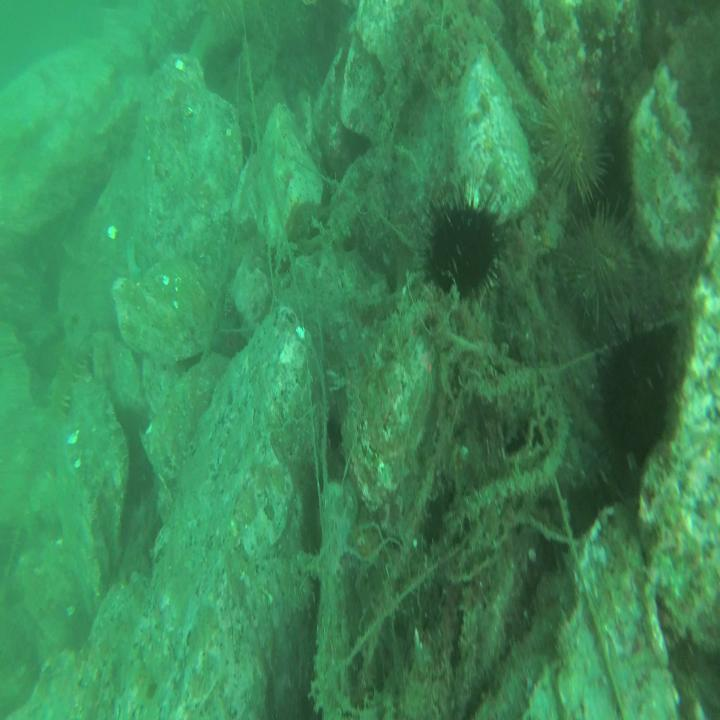echinus: (549, 193, 678, 343), (526, 77, 616, 215), (595, 316, 684, 452), (420, 182, 507, 301), (249, 78, 285, 138), (206, 0, 250, 36)
holothurian: (45, 343, 85, 429)
